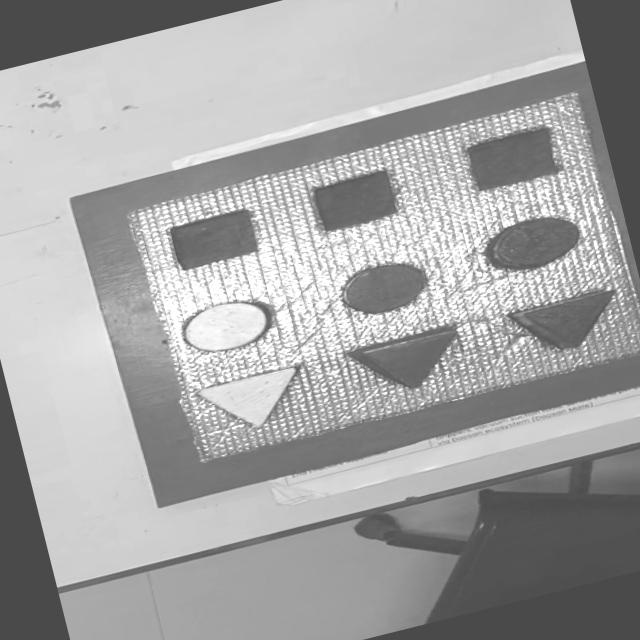bcircle: (480, 208, 587, 280)
btriangle: (503, 286, 627, 364)
mtcube: (462, 124, 564, 194), (165, 206, 262, 274), (308, 168, 402, 235)
rcircle: (335, 255, 431, 323)
rtriangle: (344, 323, 470, 403)
wb: (119, 91, 640, 468)
ycircle: (170, 290, 281, 364)
ytriangle: (189, 362, 310, 442)
